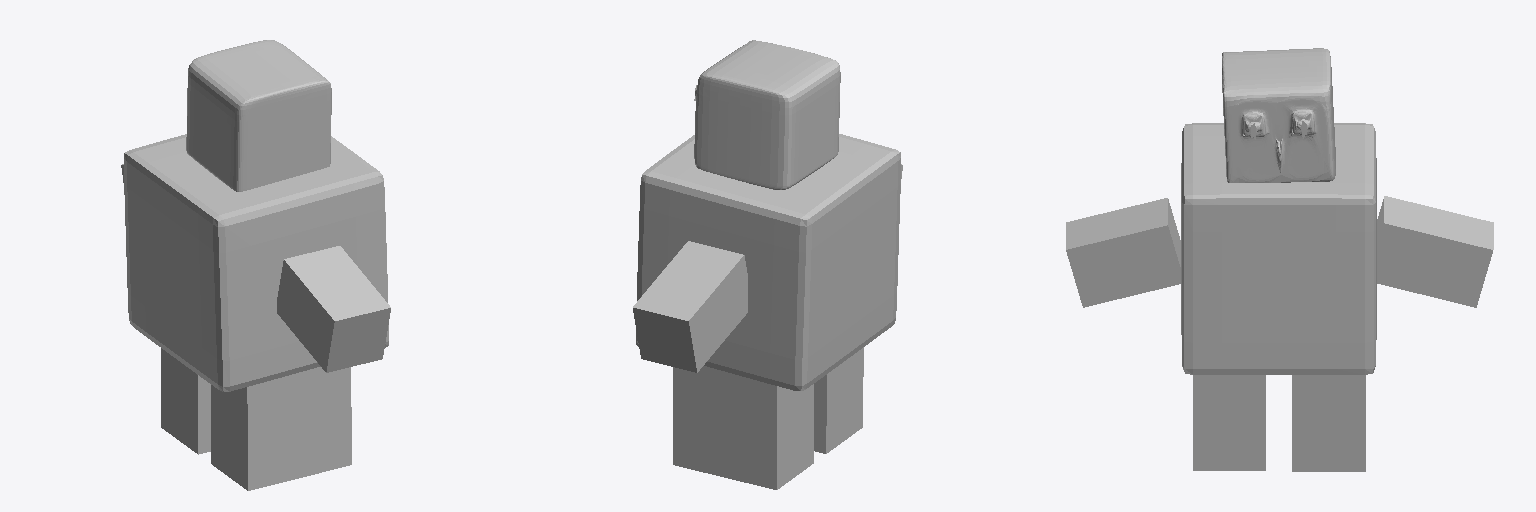
3 renders of one model, left to right at view 1: azimuth 30°, elevation 25°; view 2: azimuth 150°, elevation 25°; view 3: azimuth 270°, elevation 25°, orthographic.
Visible parts, largest first — view 1: Cube_Cube.001, Cube.001_Cube.002, Cube.002_Cube.003, Cube.005_Cube.007, Cube.003_Cube.004; view 2: Cube_Cube.001, Cube.001_Cube.002, Cube.003_Cube.004, Cube.004_Cube.005, Cube.002_Cube.003; view 3: Cube_Cube.001, Cube.001_Cube.002, Cube.004_Cube.005, Cube.005_Cube.007, Cube.003_Cube.004, Cube.002_Cube.003.
Boxes of the visible parts, box(x1,y1,x2,y2) form: Cube_Cube.001: box(124, 134, 388, 391); Cube.001_Cube.002: box(186, 40, 331, 191); Cube.002_Cube.003: box(211, 367, 351, 490); Cube.005_Cube.007: box(277, 246, 390, 372); Cube.003_Cube.004: box(161, 348, 210, 454); Cube_Cube.001: box(636, 134, 900, 390); Cube.001_Cube.002: box(694, 40, 840, 189); Cube.003_Cube.004: box(673, 366, 813, 489); Cube.004_Cube.005: box(633, 241, 747, 372); Cube.002_Cube.003: box(814, 347, 863, 453); Cube_Cube.001: box(1181, 123, 1376, 374); Cube.001_Cube.002: box(1222, 48, 1335, 182); Cube.004_Cube.005: box(1377, 196, 1493, 307); Cube.005_Cube.007: box(1066, 198, 1180, 307); Cube.003_Cube.004: box(1292, 375, 1365, 471); Cube.002_Cube.003: box(1193, 375, 1265, 470).
Size of the model in its own units: 1.5 by 3.14 by 3.2.